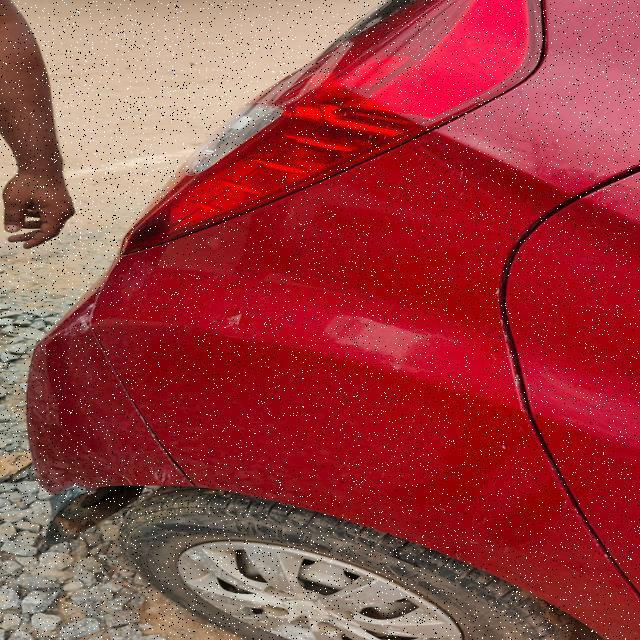rear-bumper-dent: (23, 316, 155, 560)
